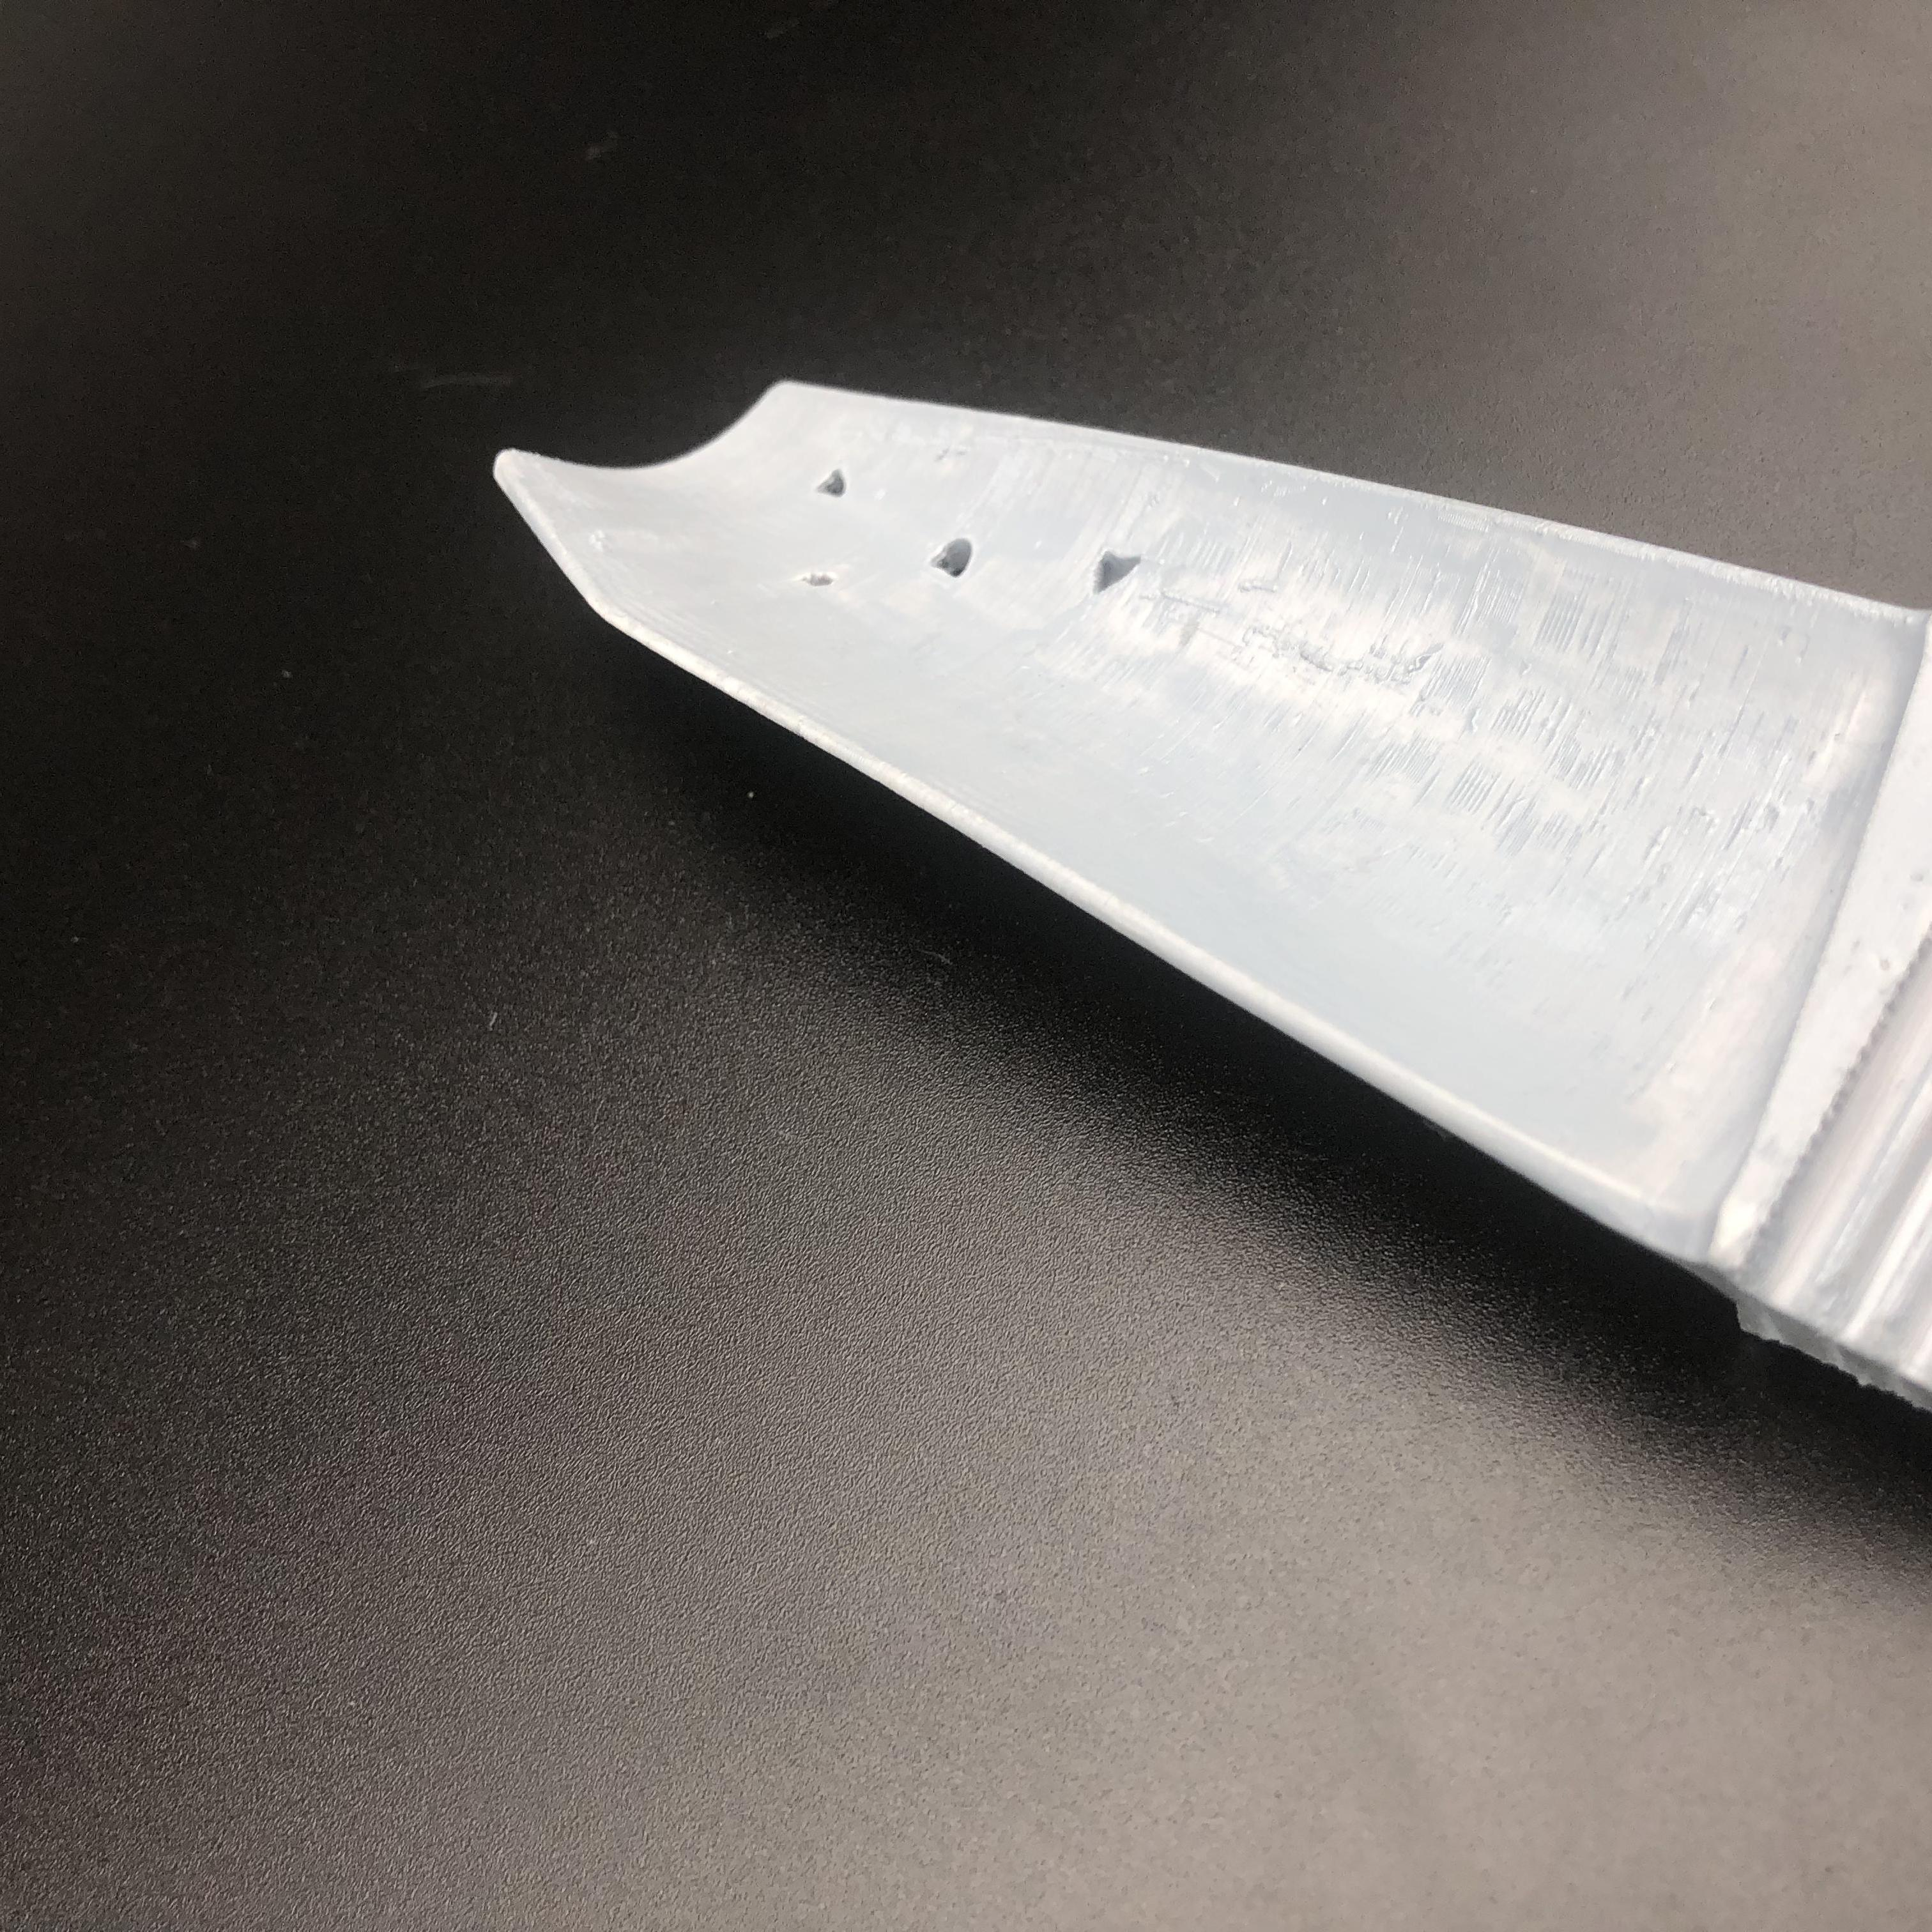breakdown: (793, 467, 1152, 605)
